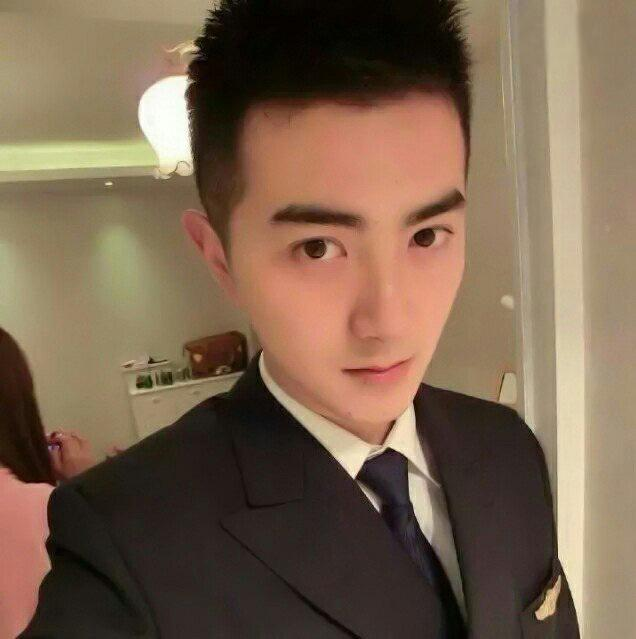person: (147, 17, 528, 639)
